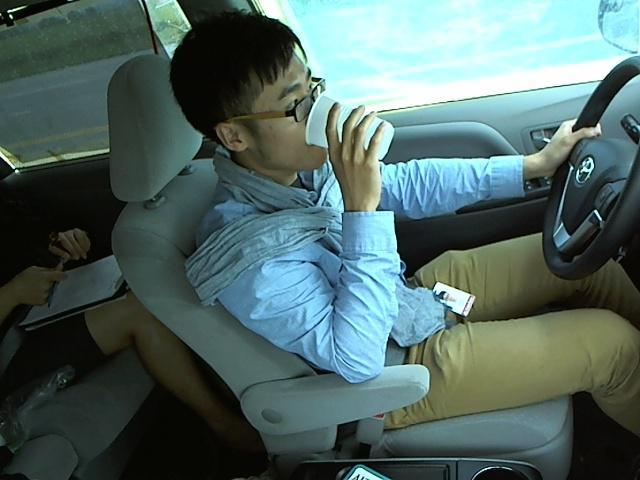Drinking: (305, 93, 396, 165)
